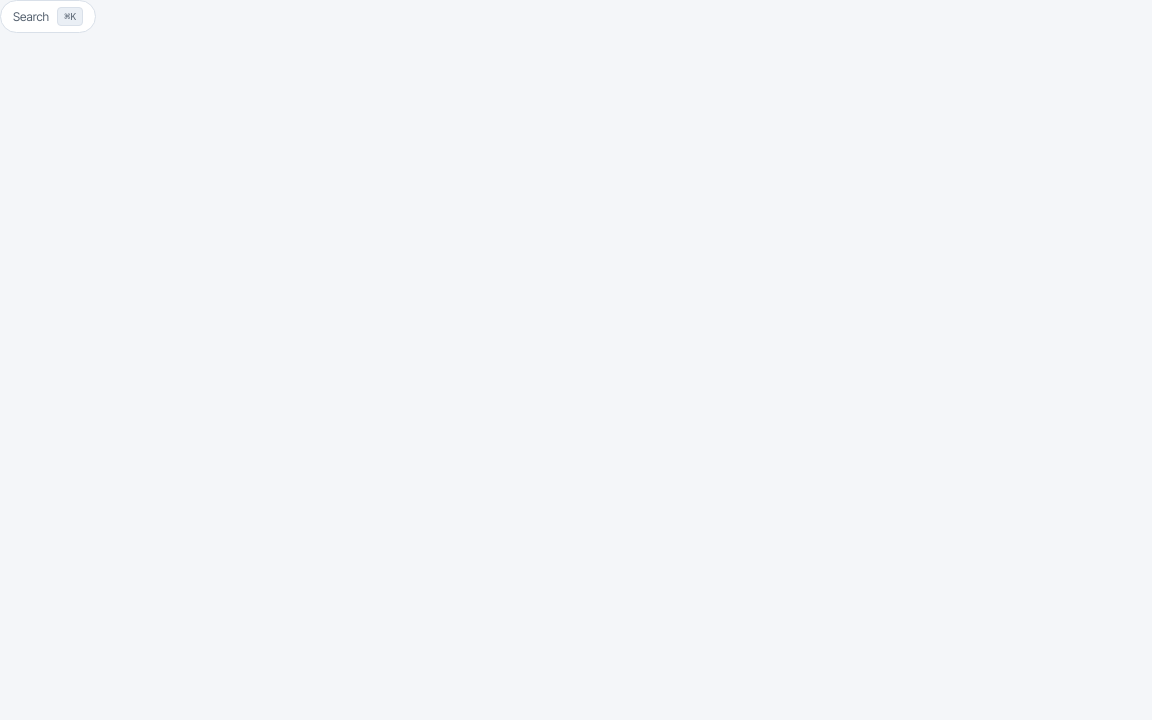
CommandPalette › filters as you type
Type keys "{Meta>}k{/Meta}"
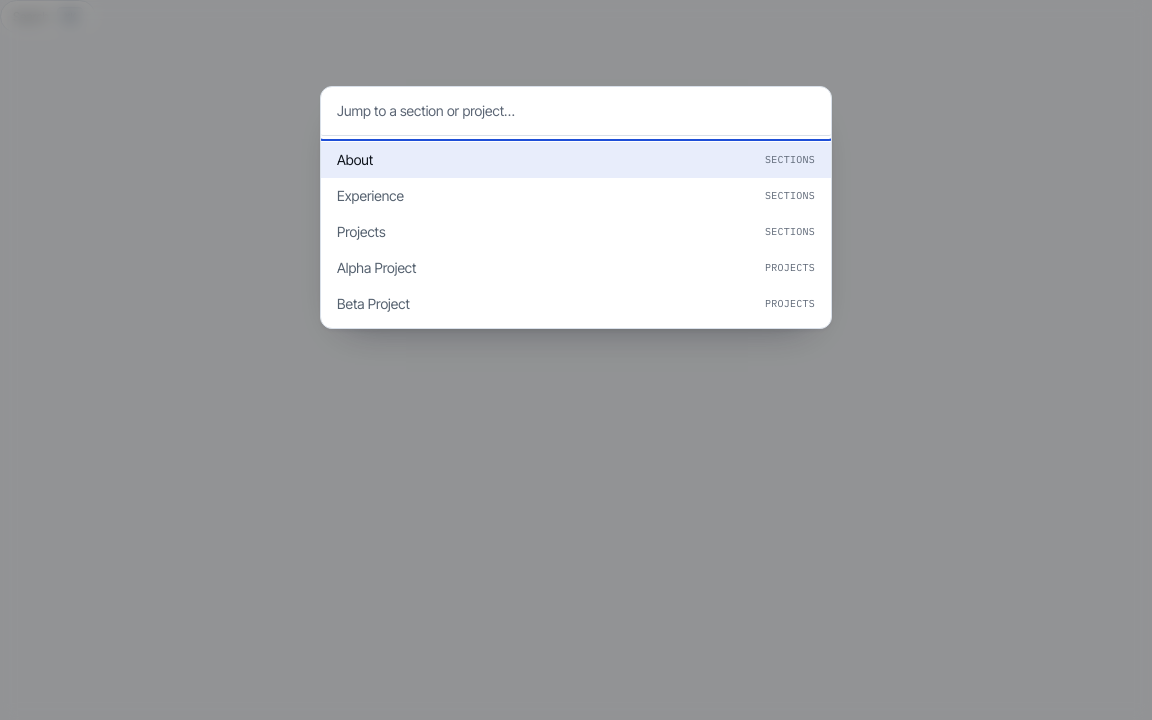
Check: the dialog is shown, box [320,86,832,329]
Type "alpha" into the dropdown at [576, 112], box [321,87,831,136]
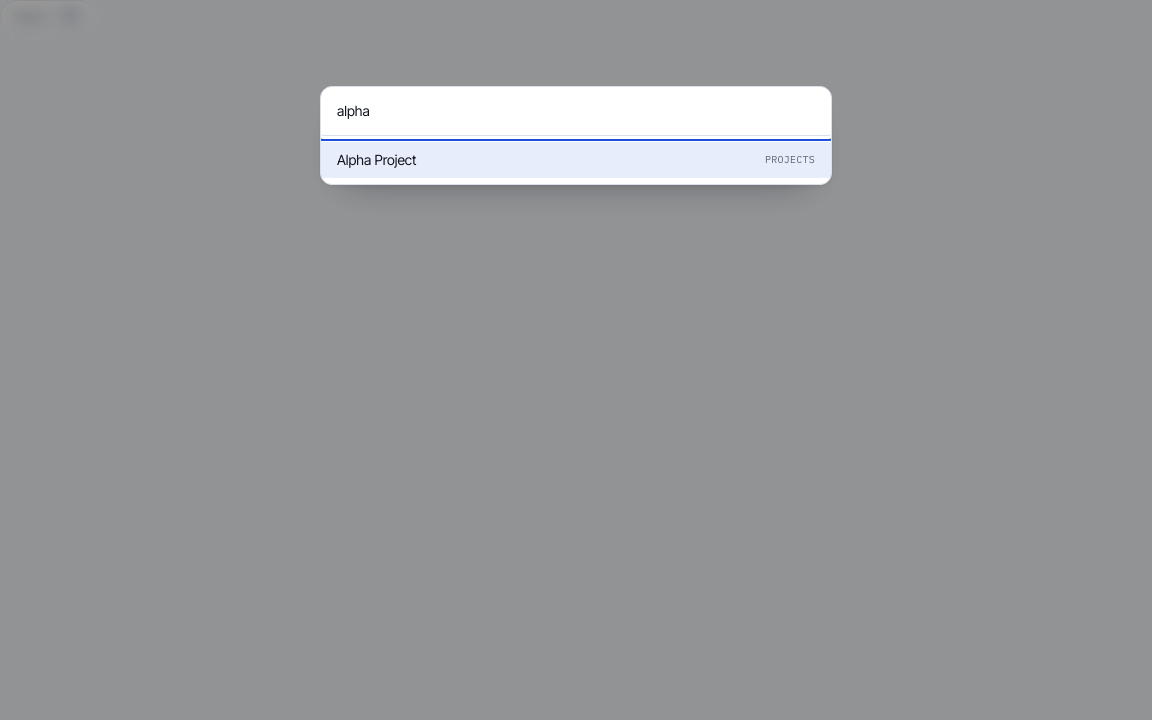
Check: the option shows "Alpha Project", box [321,142,831,178]
Check: the number of options is 1, box [321,142,831,178]
